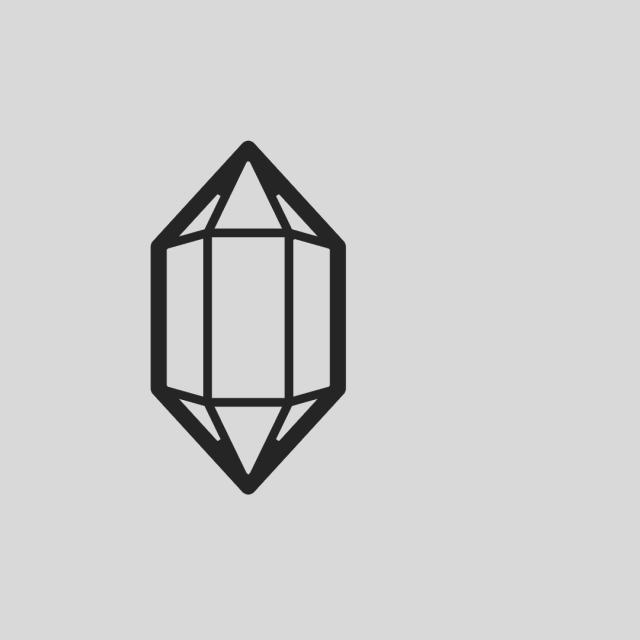crystal: (147, 139, 357, 501)
